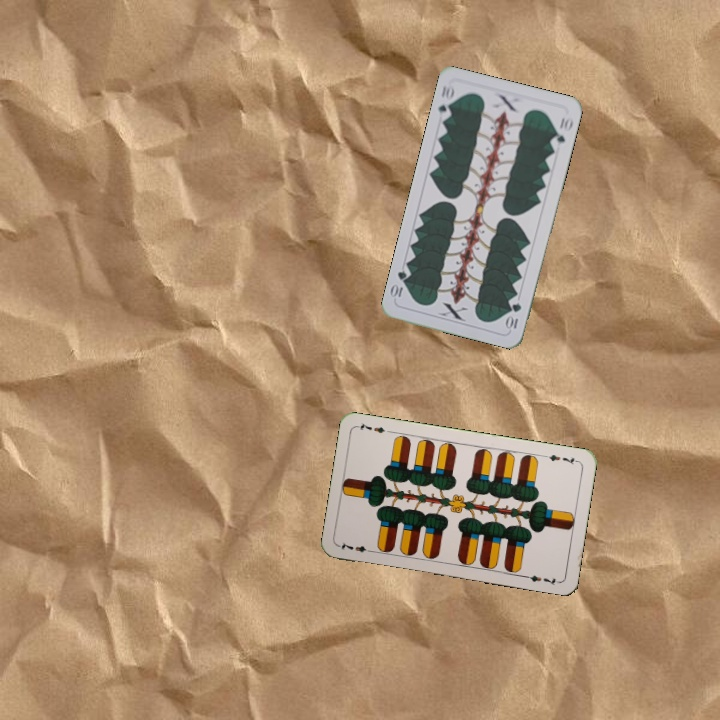E7: (335, 538, 376, 555), (540, 451, 581, 467)
G10: (434, 80, 457, 122), (503, 299, 524, 331)
